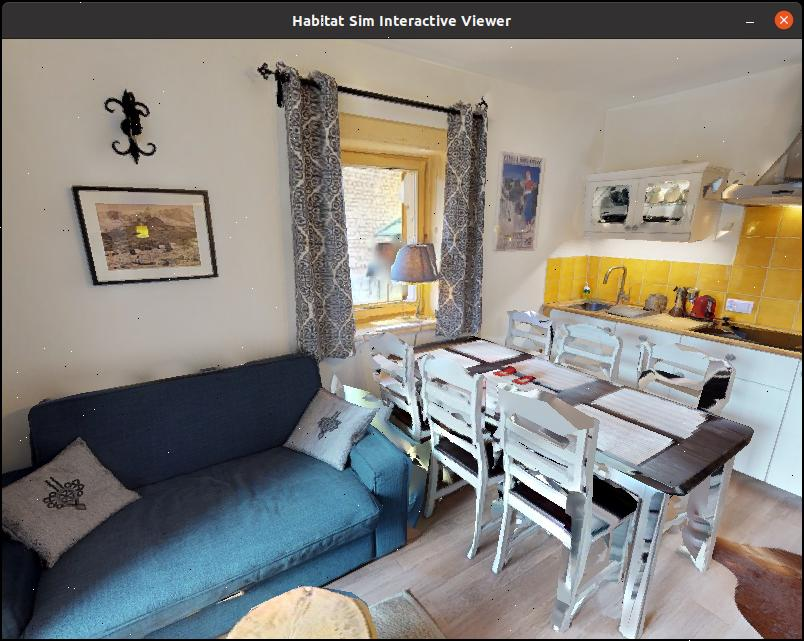chair: (492, 371, 645, 628), (423, 327, 525, 574)
sink: (565, 261, 637, 315)
sofa: (0, 339, 426, 641)
table: (376, 323, 772, 641)
